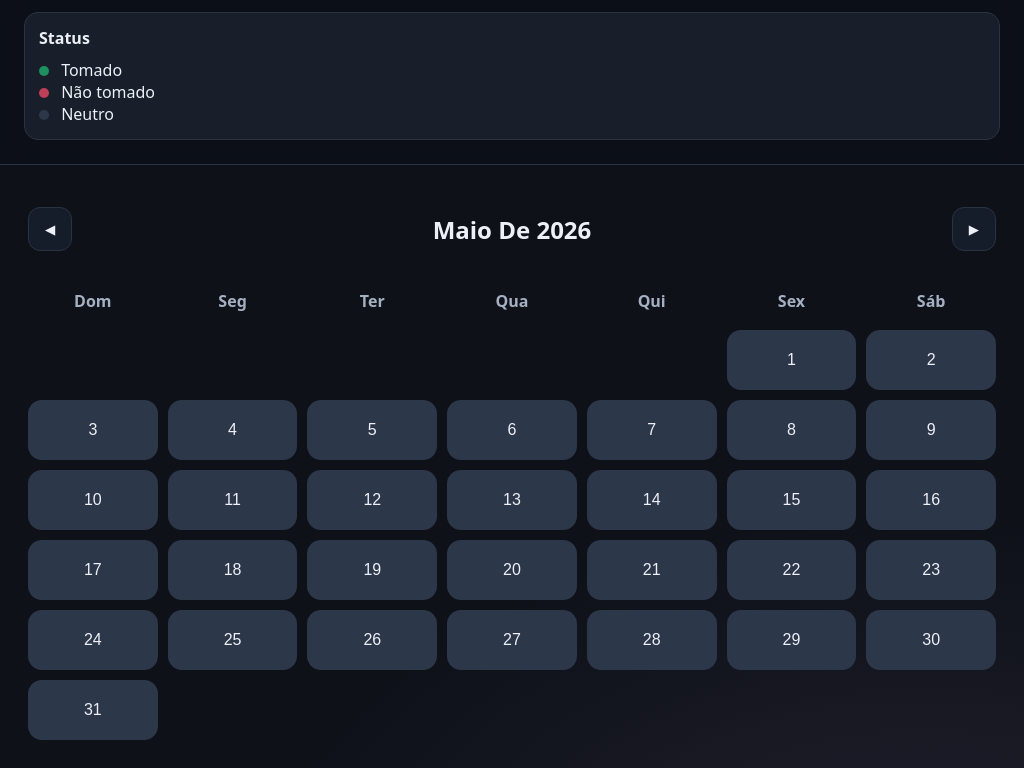
Test: app interactions › abre modal ao clicar em um dia do calendario
(page scrolled)
Click the button "18" at (233, 570), box [168,540,297,600]
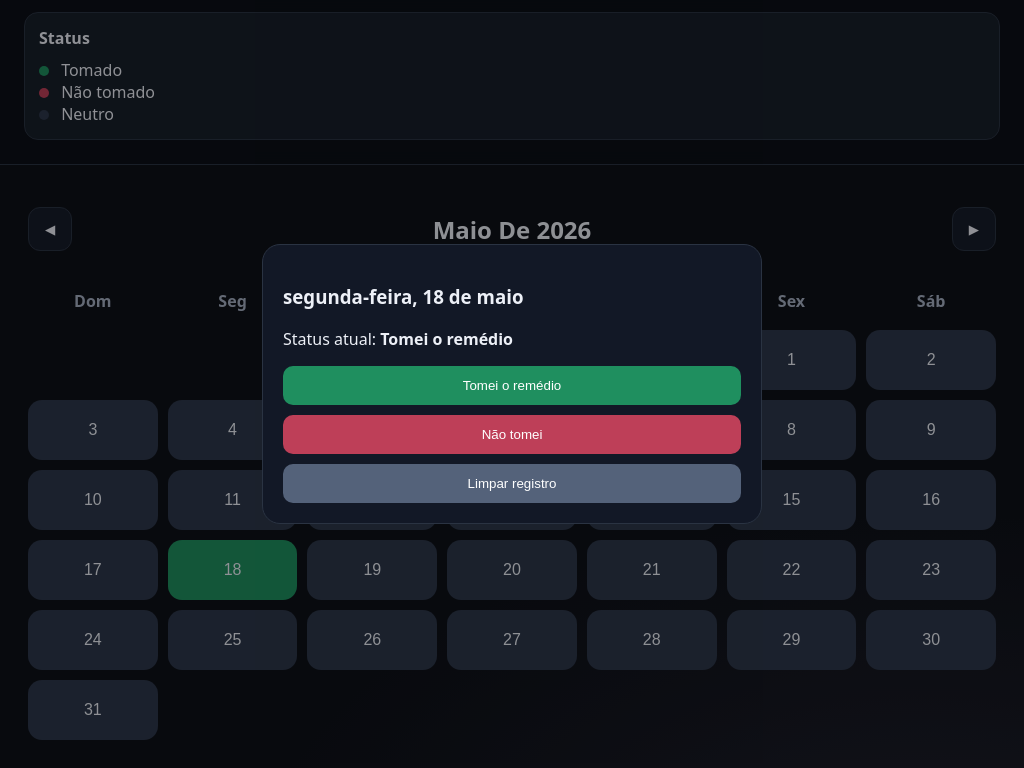
Now the text "Status atual: Tomei o remédio" is shown, box [283,328,513,350]
